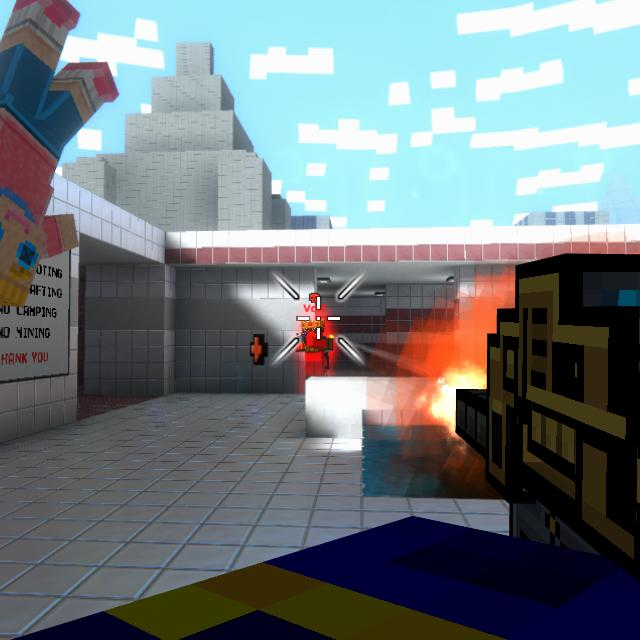Enemy: (295, 321, 333, 376)
